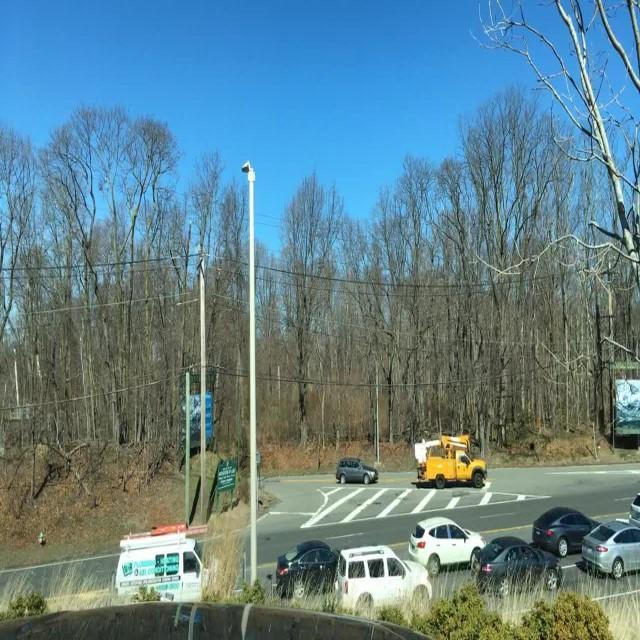normal: (332, 544, 429, 605), (406, 520, 484, 578), (415, 433, 489, 488), (576, 521, 637, 581), (531, 508, 601, 555), (334, 457, 377, 483)
